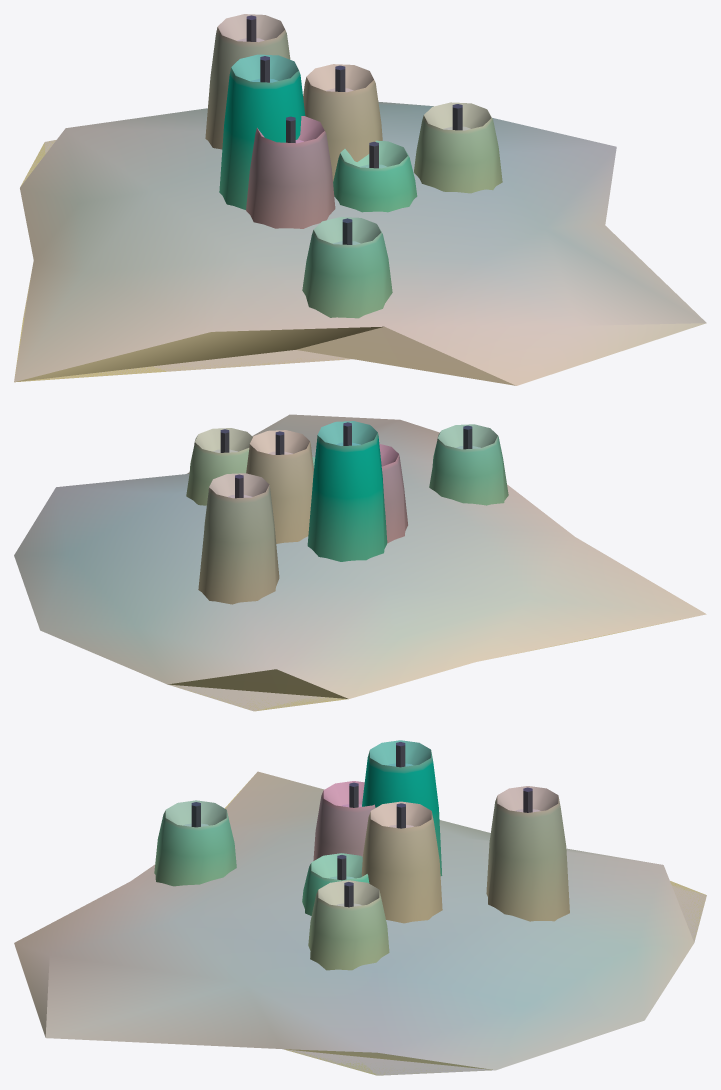
File: candle_cluster_dead.glb
3 views of the same model, one above another, from view 1: azimuth 30°, elevation 25°; view 2: azimuth 150°, elevation 25°; view 3: azimuth 270°, elevation 25° (orthographic). The views are drawn at different scales.
Parts seen in each view (by area): view 1: drip_base, votive.004, votive.003, votive.005, votive, votive.001, votive.006, votive.002, cluster_wicks; view 2: drip_base, votive.003, votive.002, votive.001, votive.005, votive, votive.004, cluster_wicks; view 3: drip_base, votive.002, votive.001, votive, votive.005, votive.003, votive.004, cluster_wicks, votive.006.
Part boxes in pixels (x1,y1,x2,y2): drip_base: [14, 101, 706, 385]; votive.004: [246, 116, 335, 228]; votive.003: [219, 54, 305, 209]; votive.005: [302, 217, 392, 318]; votive: [414, 102, 502, 193]; votive.001: [303, 64, 382, 181]; votive.006: [333, 140, 417, 212]; votive.002: [205, 14, 290, 149]; cluster_wicks: [246, 15, 462, 244]; drip_base: [14, 414, 706, 711]; votive.003: [307, 421, 387, 561]; votive.002: [198, 473, 279, 604]; votive.001: [246, 430, 313, 543]; votive.005: [429, 424, 508, 505]; votive: [186, 428, 252, 505]; votive.004: [379, 444, 407, 543]; cluster_wicks: [220, 422, 472, 498]; drip_base: [14, 771, 706, 1075]; votive.002: [486, 786, 569, 921]; votive.001: [361, 801, 442, 923]; votive: [308, 880, 389, 970]; votive.005: [154, 800, 236, 886]; votive.003: [362, 740, 442, 875]; votive.004: [313, 781, 375, 860]; cluster_wicks: [191, 742, 532, 907]; votive.006: [302, 853, 369, 915].
Bounding box in the file's own units: 0.542 × 0.1466 × 0.5185.
